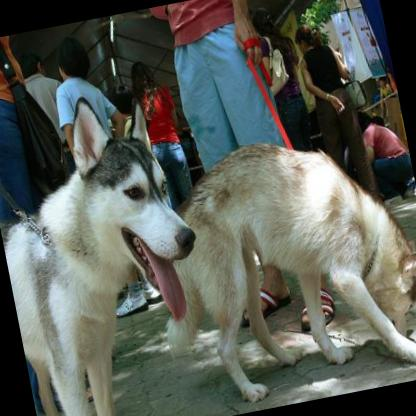Siberian_husky: (129, 113, 416, 415), (0, 78, 229, 416)
